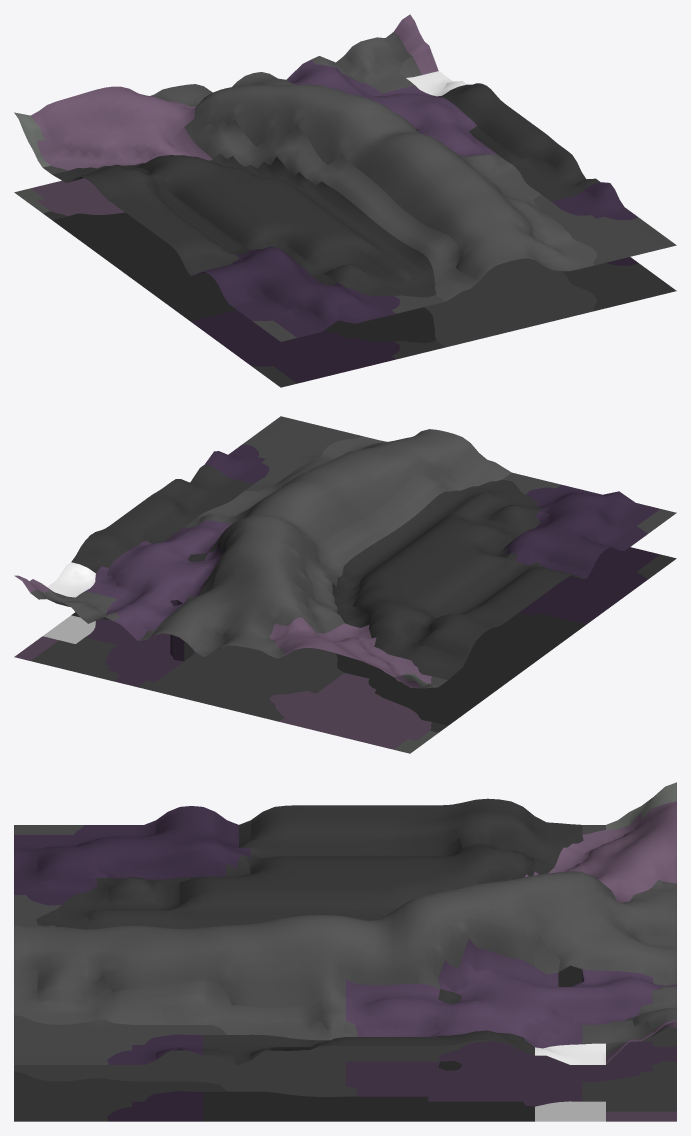
Rendered from delbld-hull-557.glb.
3 renders of one model, top to bottom at view 1: azimuth 30°, elevation 25°; view 2: azimuth 150°, elevation 25°; view 3: azimuth 270°, elevation 25°, orthographic. The views are drawn at different scales.
Parts seen in each view (by area): view 1: delbld-hull-557; view 2: delbld-hull-557; view 3: delbld-hull-557.
Boxes of the visible parts, x1,y1,x2,y2 form: delbld-hull-557: [14, 14, 676, 387]; delbld-hull-557: [14, 416, 676, 753]; delbld-hull-557: [14, 782, 676, 1121].
Bounding box in the file's own units: 2 × 0.5 × 2.33.
Materials: 11 (11 with a texture image).
